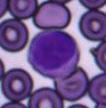L: (27, 31, 80, 80)
